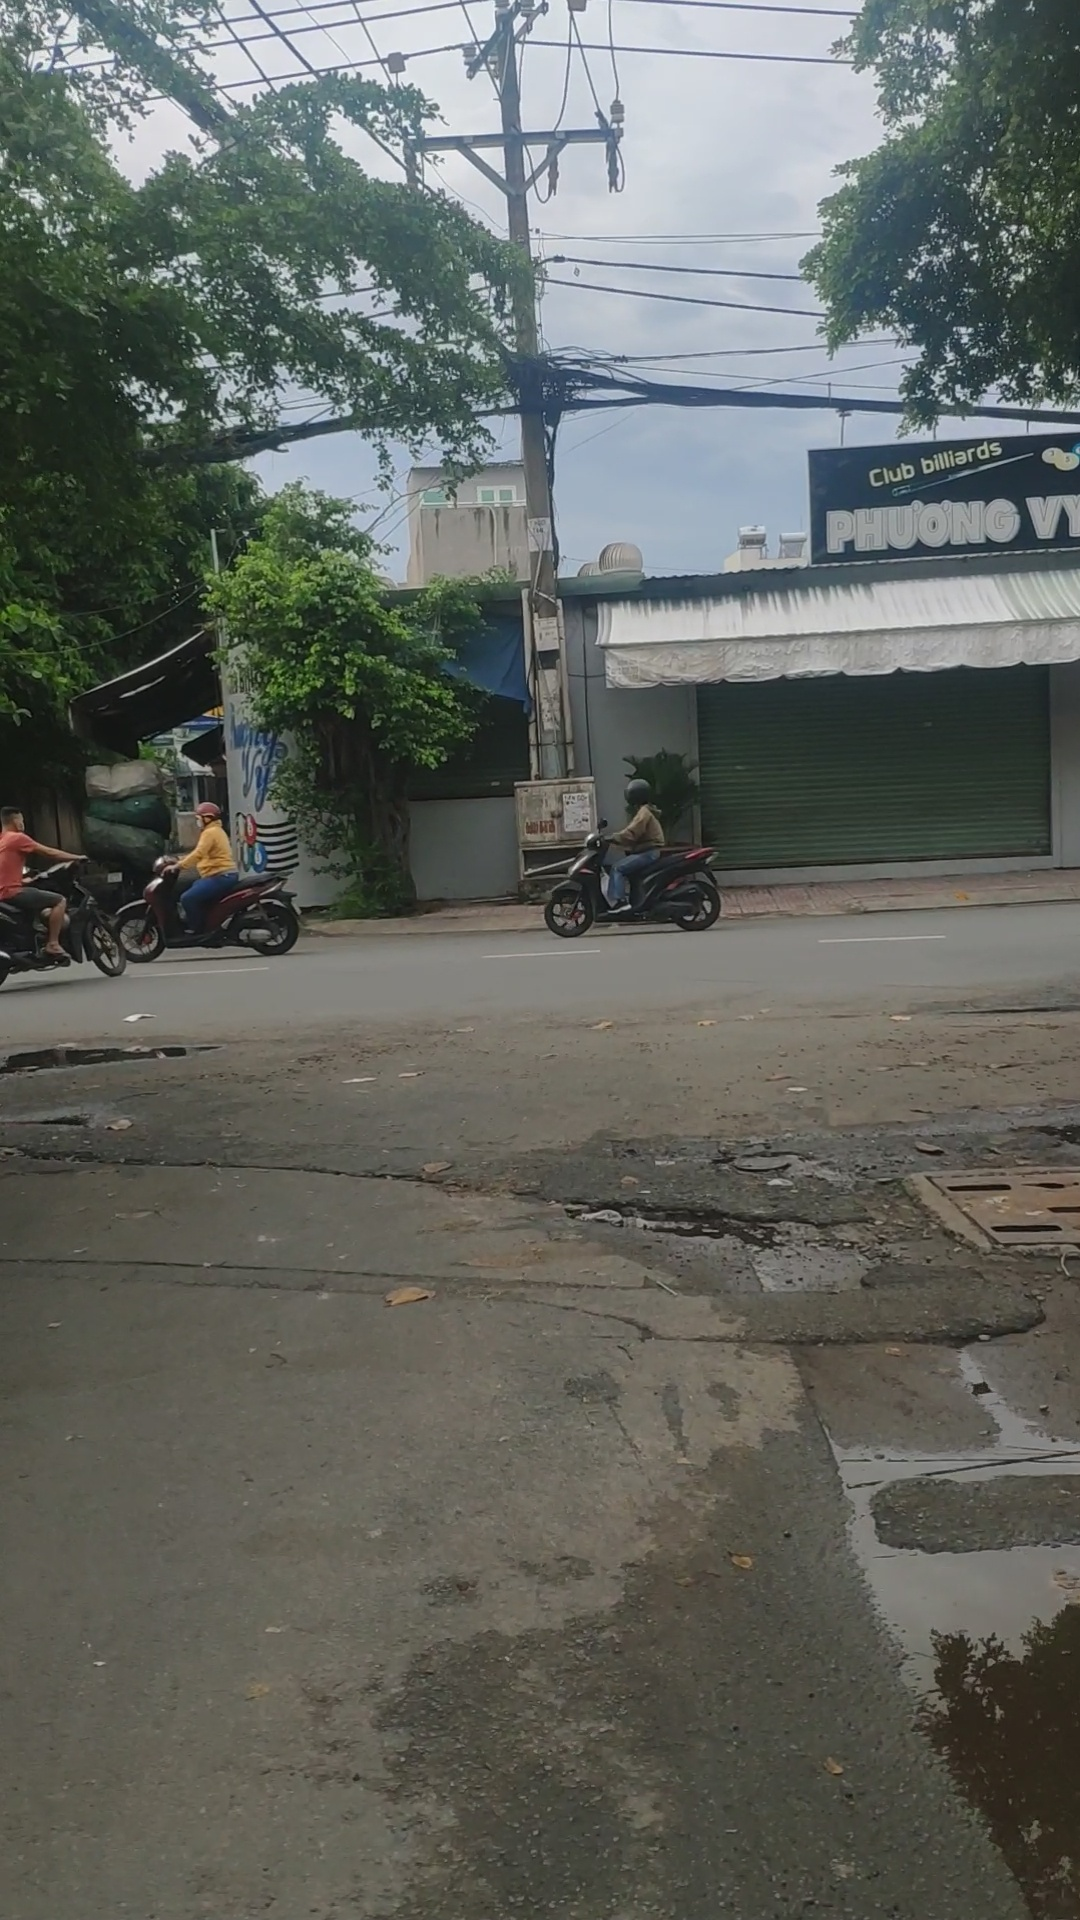hole: (760, 1315, 1080, 1495), (550, 1199, 922, 1273), (1, 1035, 220, 1083), (675, 1141, 861, 1185)
